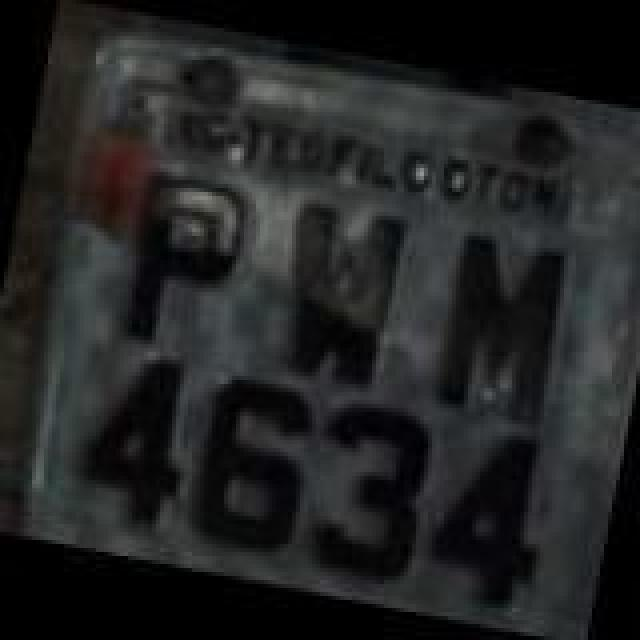3: (286, 388, 450, 588)
4: (416, 412, 560, 612), (70, 338, 210, 542)
6: (172, 364, 324, 564)
M: (426, 222, 582, 434)
P: (104, 164, 264, 364)
W: (266, 194, 414, 398)
